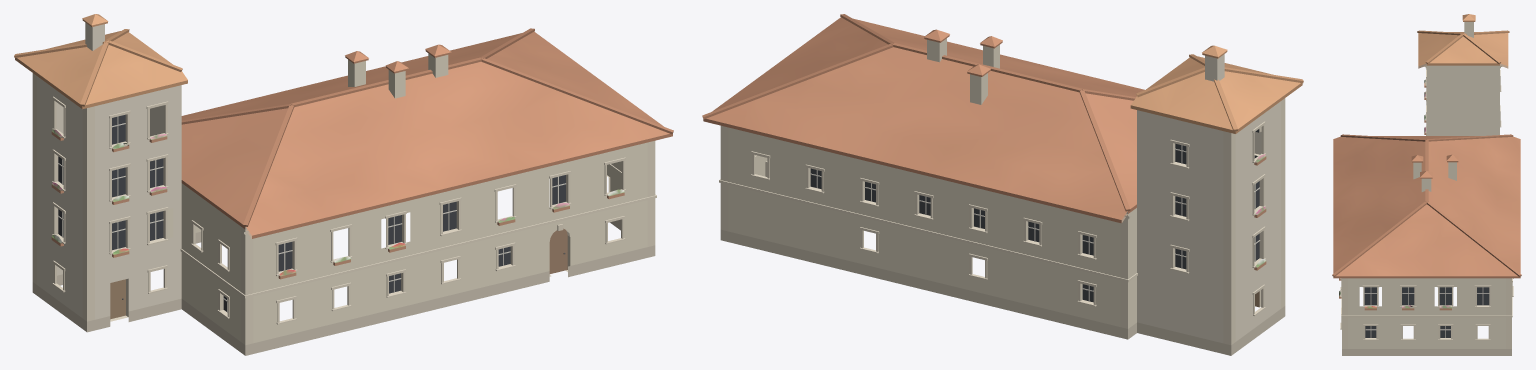
Rendered from SM_BM_BE_2_Villa.glb.
3 renders of one model, left to right at view 1: azimuth 30°, elevation 25°; view 2: azimuth 150°, elevation 25°; view 3: azimuth 270°, elevation 25°, orthographic. The views are drawn at different scales.
Parts seen in each view (by area): view 1: SM_BM_BE_2_Villa; view 2: SM_BM_BE_2_Villa; view 3: SM_BM_BE_2_Villa.
Boxes of the visible parts, x1,y1,x2,y2 form: SM_BM_BE_2_Villa: (14,14,673,355); SM_BM_BE_2_Villa: (702,14,1303,355); SM_BM_BE_2_Villa: (1332,14,1521,355).
Size of the model in its own units: 33.62 by 17.31 by 15.62.
